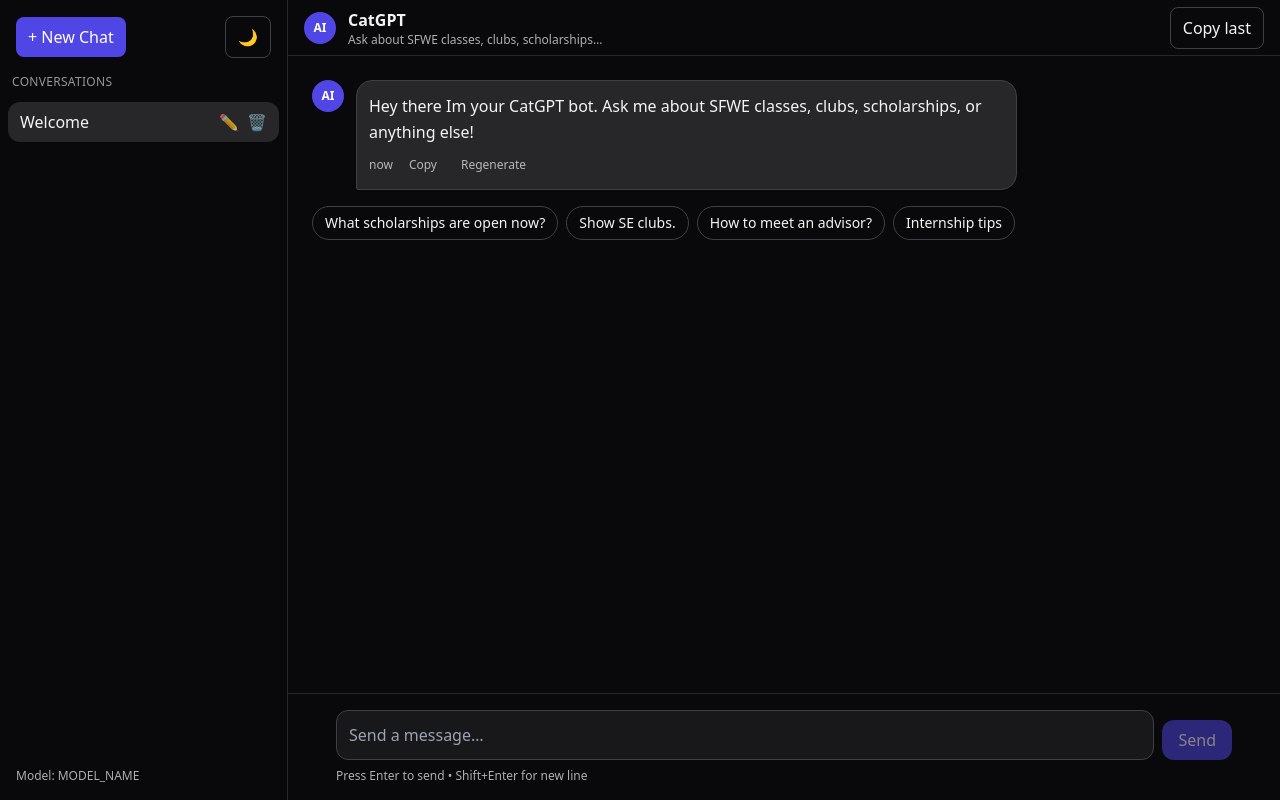
Test: ChatbotUI › Sending Messages › should display user message immediately
In the text box with placeholder "Send a message…": (745,735) [336, 710, 1154, 760], type "Test message"
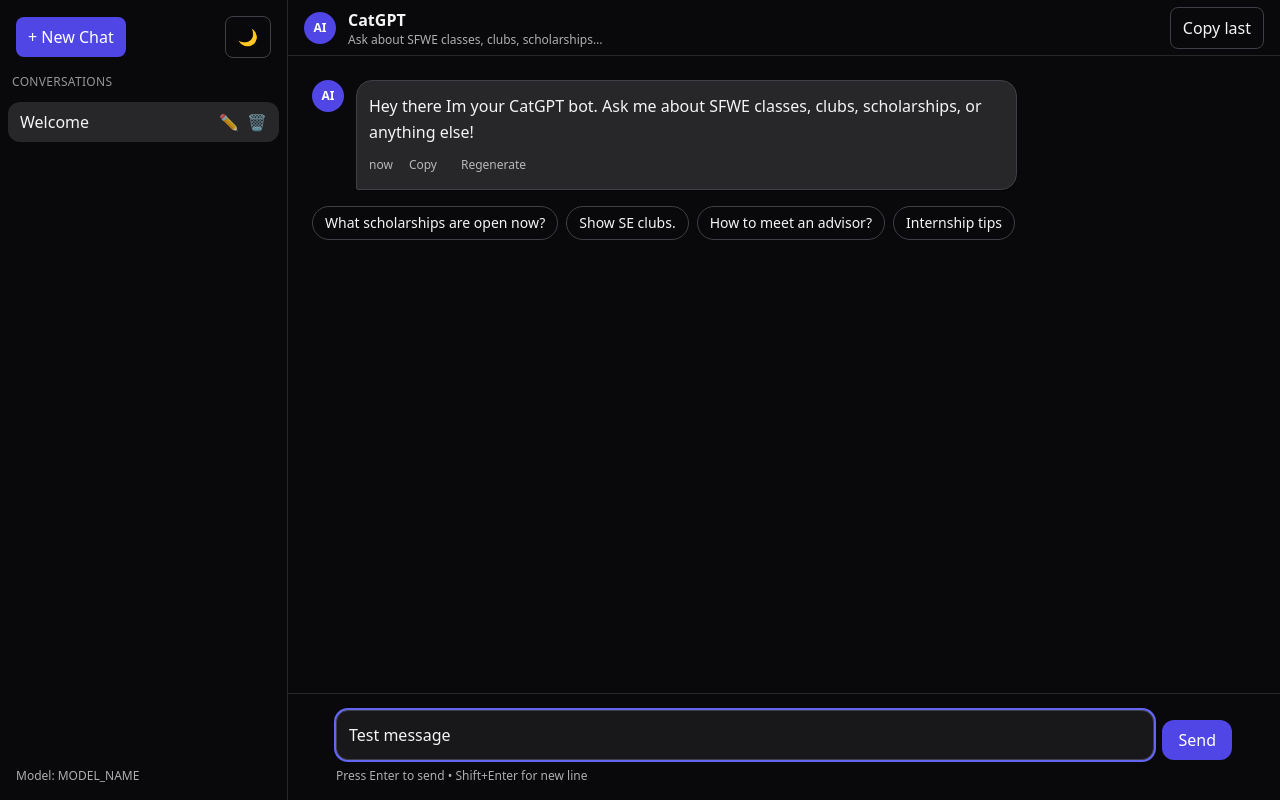
Click the button "Send": (1197,740) [1162, 720, 1232, 760]
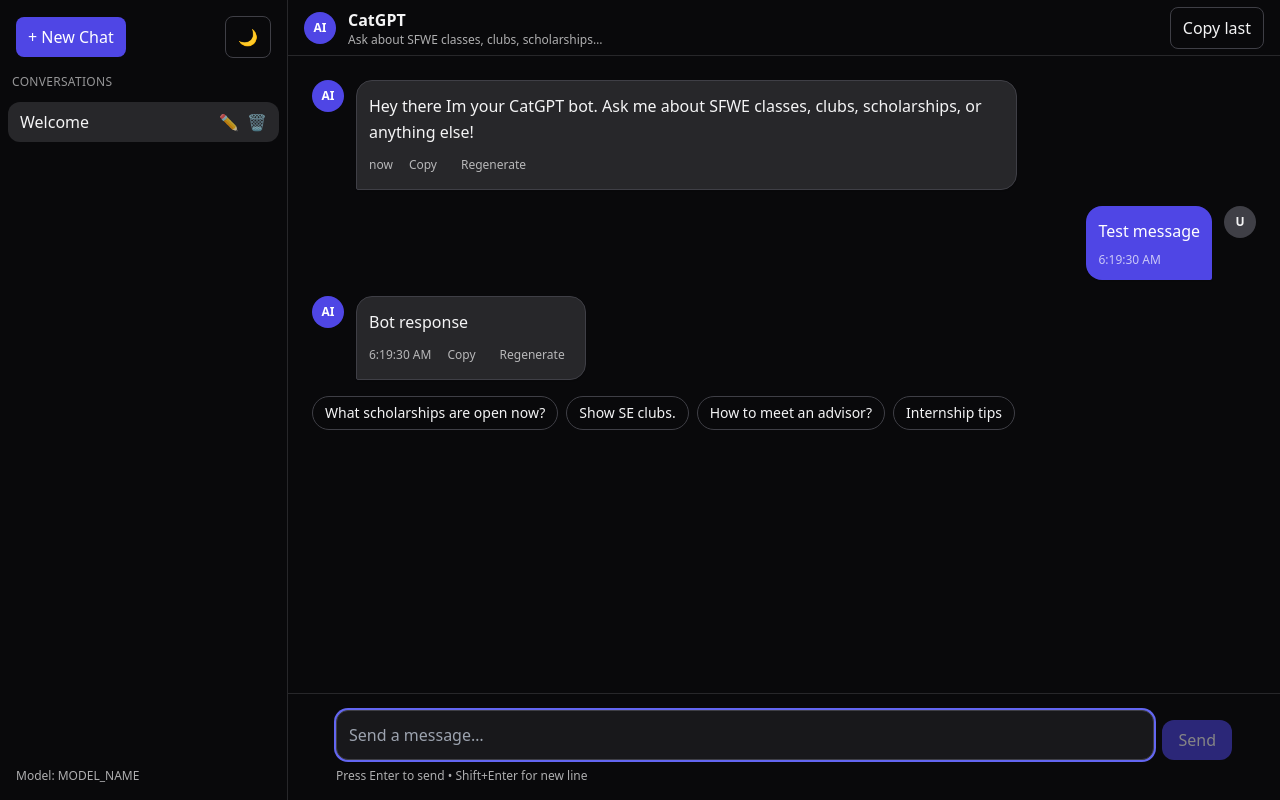
Result: the text "Test message" is shown at [1098, 218, 1200, 244]
